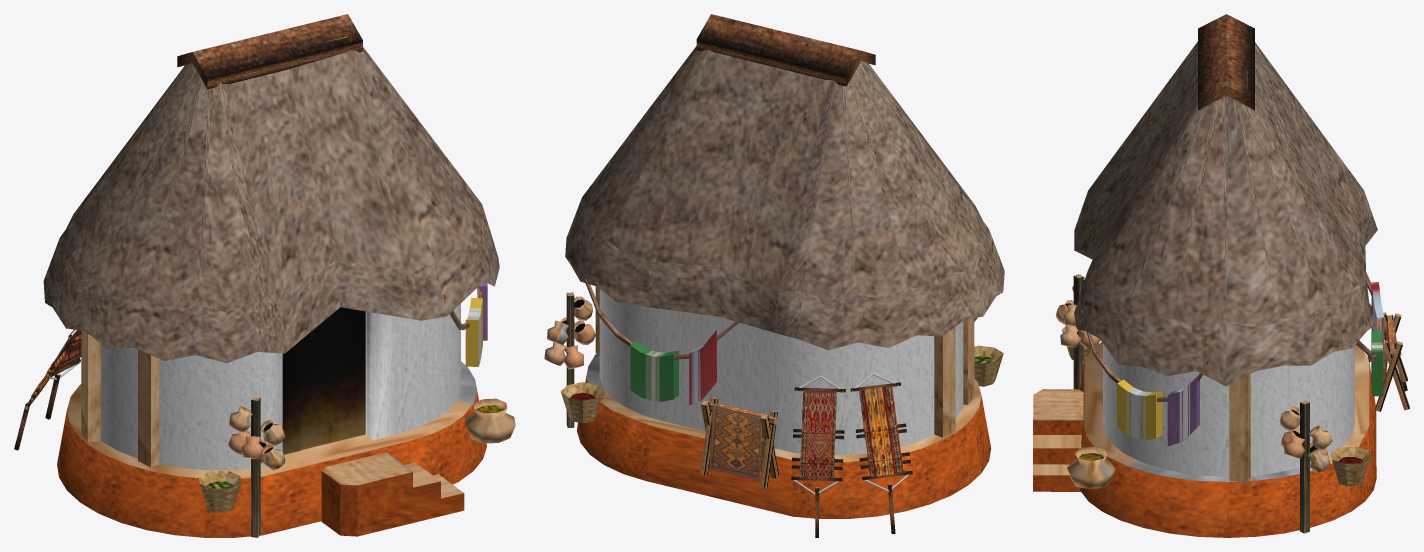
Rendered from house_4.dae.
3 views of the same model, side by side, from view 1: azimuth 30°, elevation 25°; view 2: azimuth 150°, elevation 25°; view 3: azimuth 270°, elevation 25° (orthographic). The views are drawn at different scales.
Parts seen in each view (by area): view 1: house_4; view 2: house_4; view 3: house_4.
Boxes of the visible parts, <box> form: house_4: <box>14,14,515,537</box>; house_4: <box>544,14,1004,537</box>; house_4: <box>1033,14,1409,537</box>.
Size of the model in its own units: 10.45 by 8.79 by 10.29.
